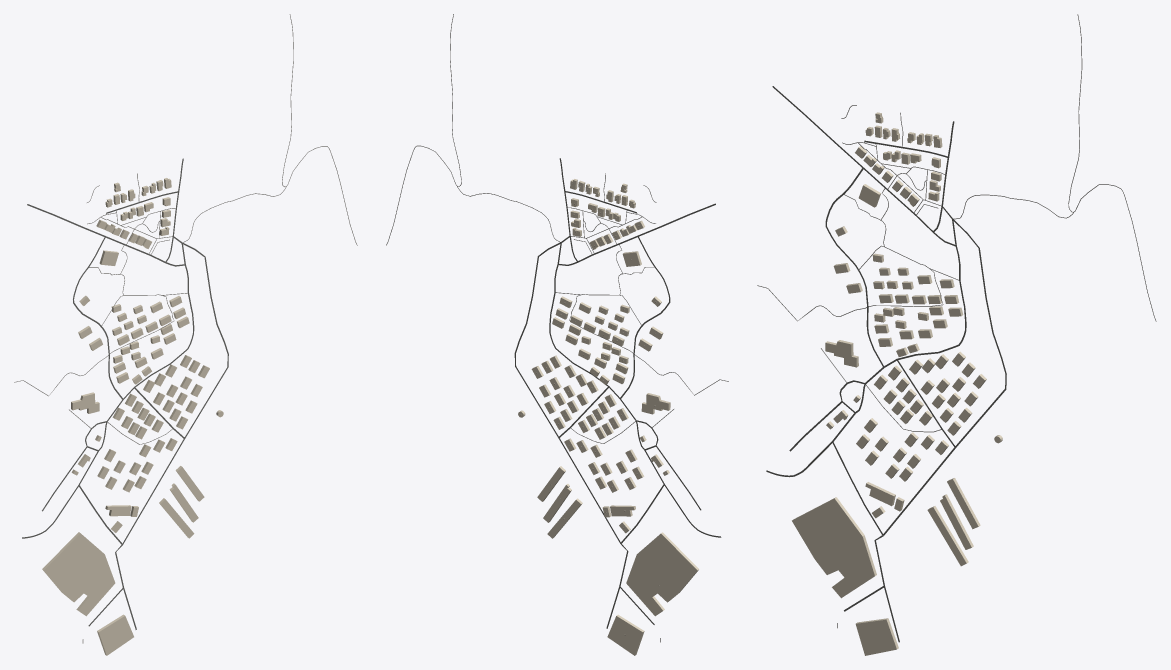
Rendered from historic-palestine-15_37_3566_3316.glb.
3 views of the same model, side by side, from view 1: azimuth 30°, elevation 25°; view 2: azimuth 150°, elevation 25°; view 3: azimuth 330°, elevation 25° (orthographic). The views are drawn at different scales.
Visible parts, largest first — view 1: Building_, Building_.001, Road, Road .001; view 2: Building_, Building_.001, Road, Road .001; view 3: Building_, Building_.001, Road, Road .001, Building_.101.
Boxes of the visible parts, x1,y1,x2,y2 form: Building_: [42, 532, 115, 616]; Building_.001: [97, 614, 133, 655]; Road: [22, 243, 194, 538]; Road .001: [122, 242, 228, 544]; Building_: [626, 532, 699, 616]; Building_.001: [607, 614, 644, 655]; Road: [549, 243, 721, 537]; Road .001: [514, 242, 620, 543]; Building_: [792, 497, 876, 598]; Building_.001: [855, 618, 898, 655]; Road: [766, 220, 966, 477]; Road .001: [883, 219, 1006, 535]; Building_.101: [927, 506, 968, 566].
Bounding box in the file's own units: 854 × 1419 × 8.7.
